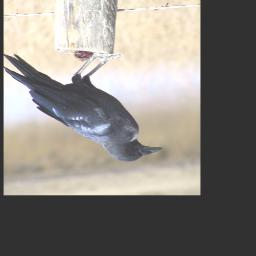Crow: (4, 50, 165, 164)
